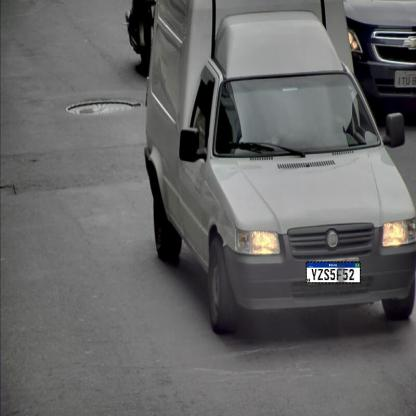PlacaM: (306, 262, 361, 284)
